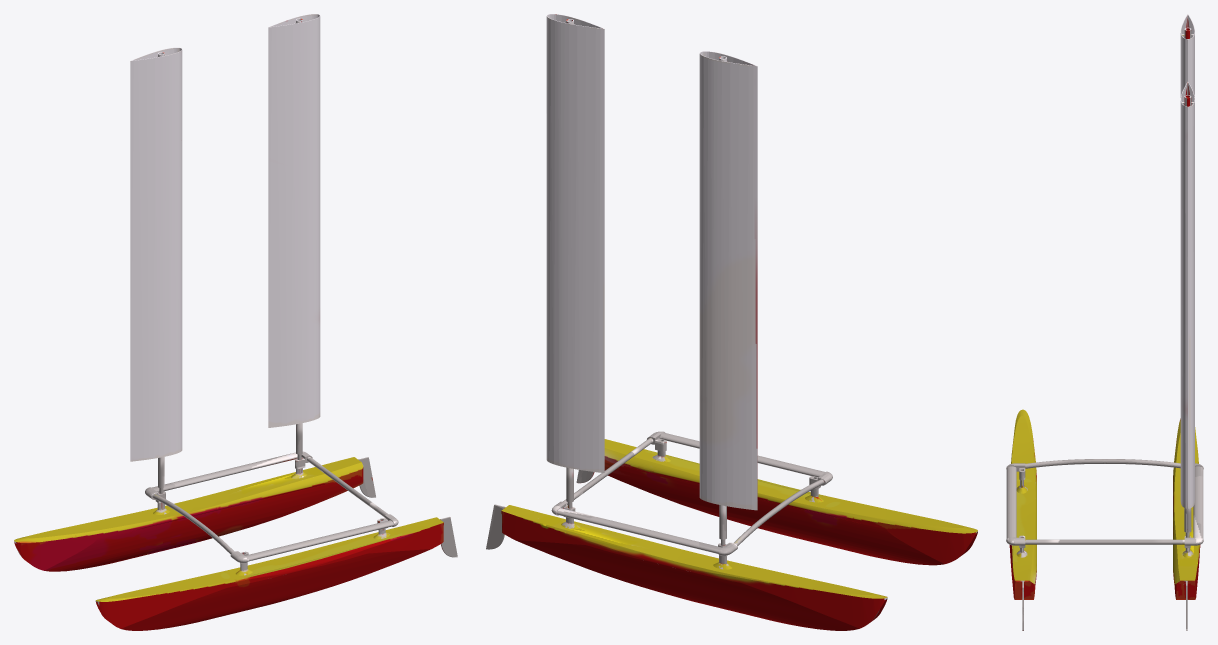
File: full_boat.dae
3 views of the same model, side by side, from view 1: azimuth 30°, elevation 25°; view 2: azimuth 150°, elevation 25°; view 3: azimuth 270°, elevation 25° (orthographic). The views are drawn at different scales.
Visible parts, largest first — view 1: full_boat; view 2: full_boat; view 3: full_boat.
Part boxes in pixels (box(x1,y1,x2,y2)): full_boat: box(14, 14, 457, 630); full_boat: box(486, 14, 977, 630); full_boat: box(1006, 14, 1203, 630).
Size of the model in its own units: 5.32 by 2.51 by 7.
1 material, 1 textured.
